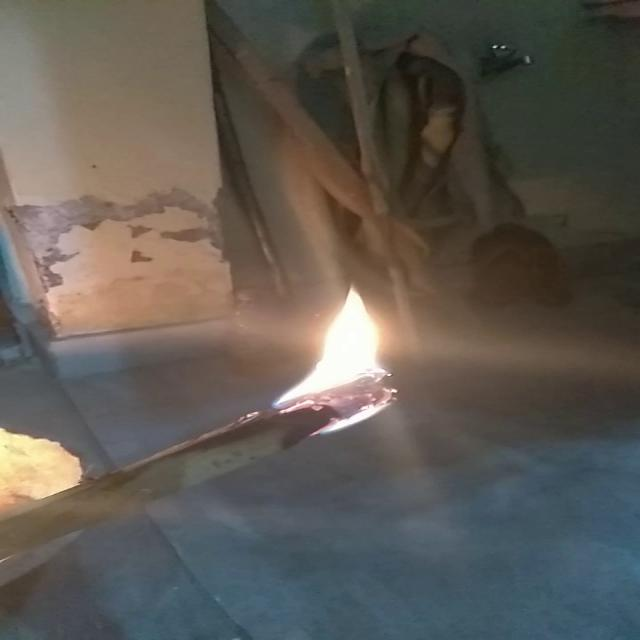fire: (270, 289, 404, 426)
